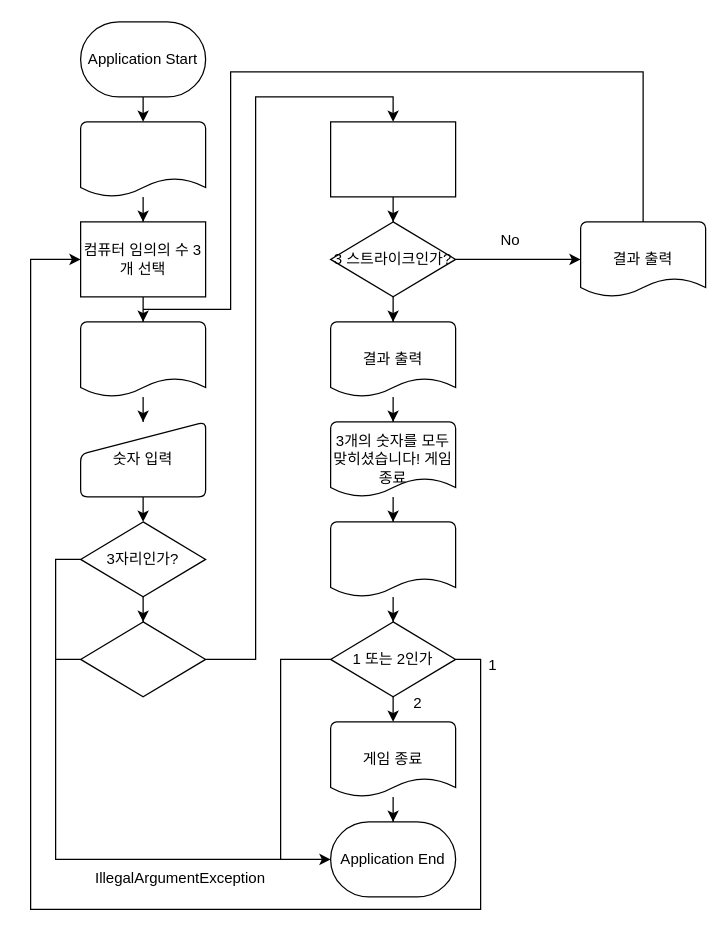
Image size: 728x941. Some labels were removed from this diagram. The shapes that lost their labels are listed below. From the top down, each one's box as (x1, y1, x2, y2) in pixels, then its label:
(79, 121, 206, 197): 숫자 야구 게임을 시작합니다.
(329, 121, 456, 197): 3자리 수와 사용자 수 비교
(79, 321, 206, 397): 숫자를 입력해주세요 :
(329, 521, 456, 597): 게임을 새로 시작하려면 1, 종료하려면 2를 입력하세요.
(79, 621, 206, 697): 숫자인가?
